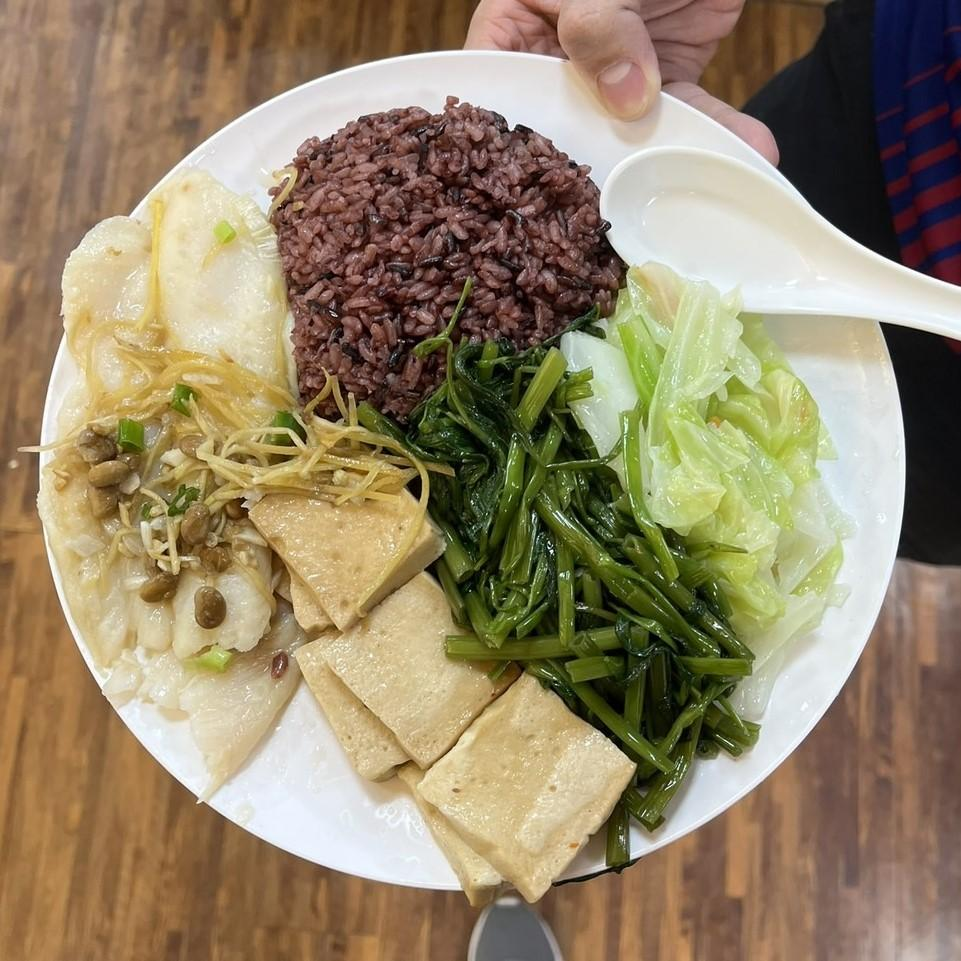big fried chicken leg: (38, 38, 921, 901)
braised fish: (264, 99, 624, 412)
braised fish fillet: (400, 352, 747, 835), (260, 473, 605, 909), (578, 272, 845, 672)
braised pork ribs: (54, 162, 302, 810)
